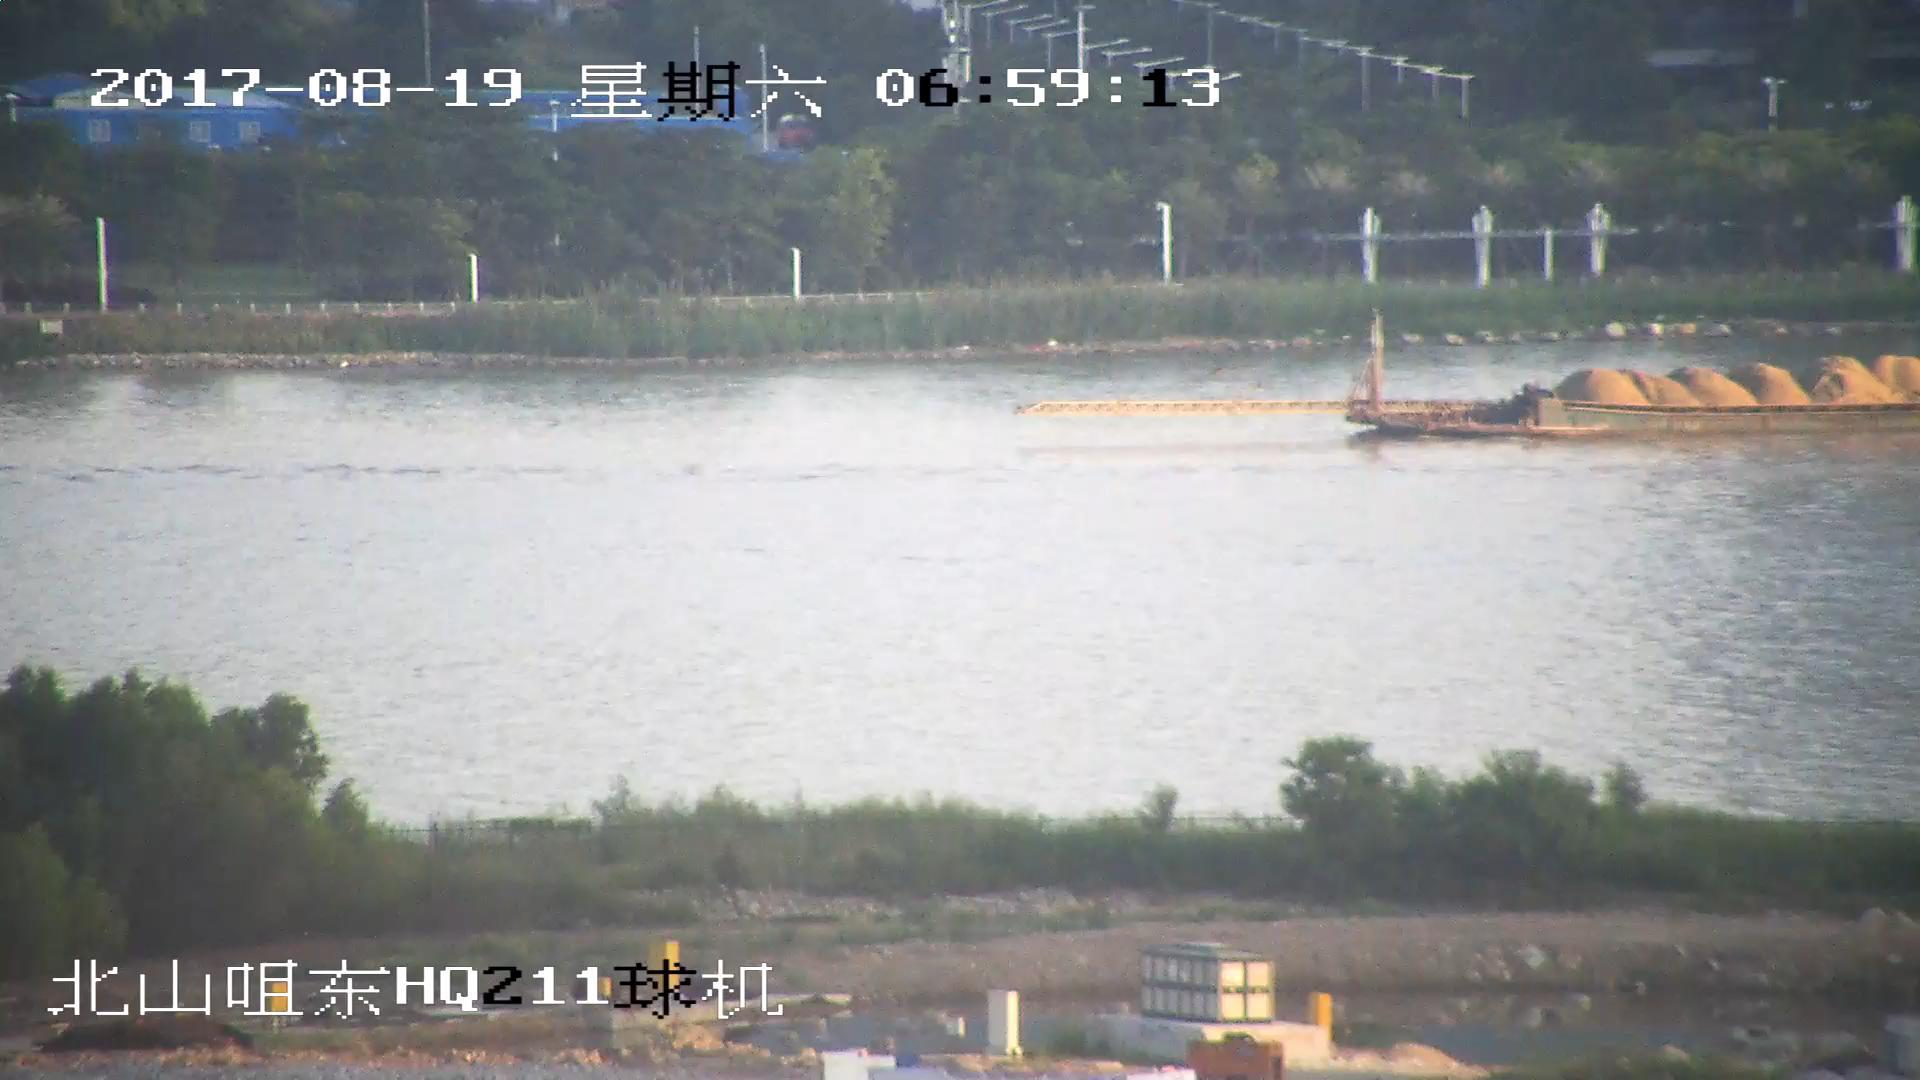Ship: (1023, 305, 1920, 447)
